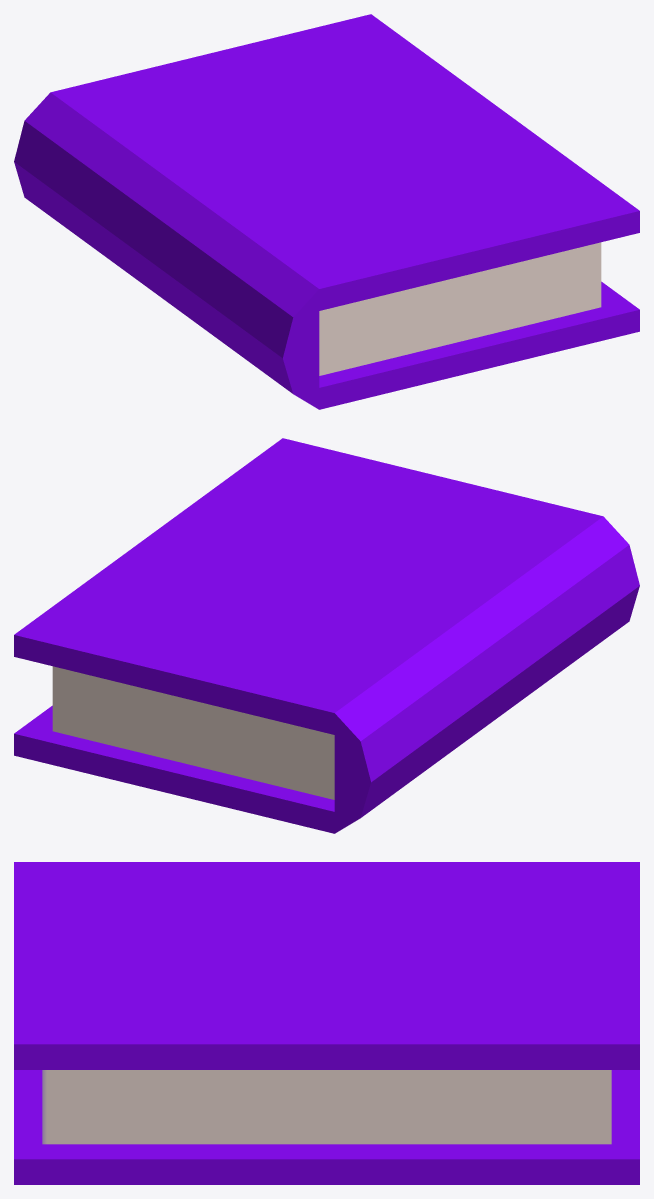
The model's file is book.glb.
3 renders of one model, top to bottom at view 1: azimuth 30°, elevation 25°; view 2: azimuth 150°, elevation 25°; view 3: azimuth 270°, elevation 25°, orthographic. The views are drawn at different scales.
Visible parts, largest first — view 1: Plane; view 2: Plane; view 3: Plane.
Boxes of the visible parts, x1=… form: Plane: x1=14, y1=14, x2=639, y2=409; Plane: x1=14, y1=438, x2=639, y2=833; Plane: x1=14, y1=862, x2=639, y2=1184.
Bounding box in the file's own units: 3.4 × 1.1 × 4.44.
Materials: 1 (1 with a texture image).
